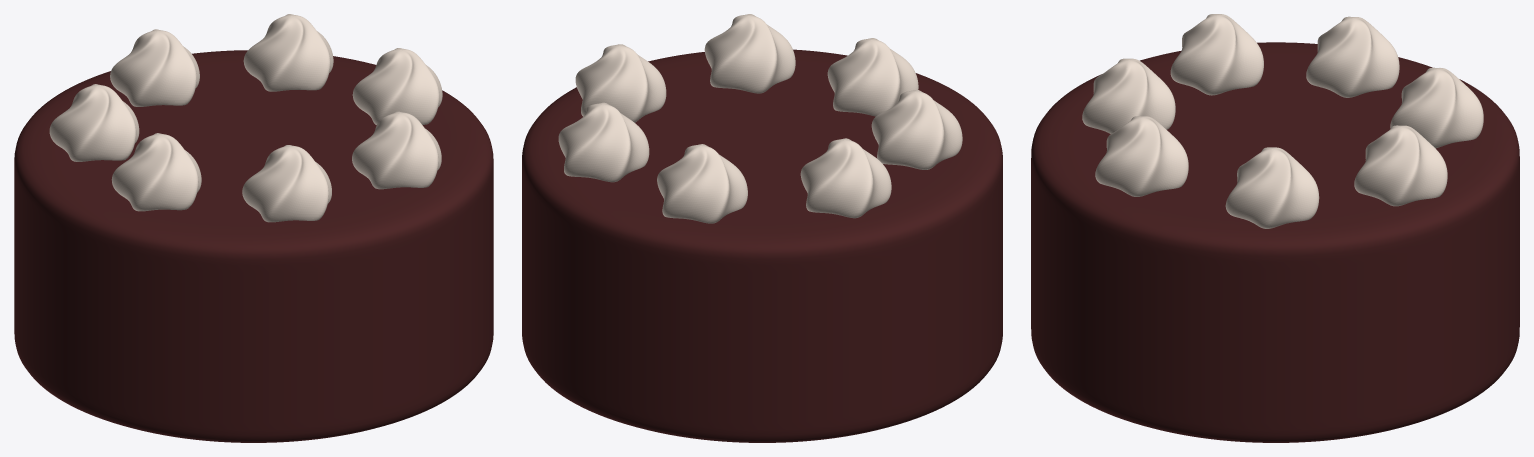
Rendered from cake (1).fbx.
3 views of the same model, side by side, from view 1: azimuth 30°, elevation 25°; view 2: azimuth 150°, elevation 25°; view 3: azimuth 270°, elevation 25° (orthographic).
Parts seen in each view (by area): view 1: cake, Star.005, Star.004, Star.003, Star.006, Star.001, Star.007, Star.002; view 2: cake, Star.005, Star.004, Star.003, Star.001, Star.006, Star.007, Star.002; view 3: cake, Star.002, Star.005, Star.001, Star.004, Star.003, Star.006, Star.007.
Part boxes in pixels (x1,y1,x2,y2): cake: (14,50,493,442); Star.005: (111,133,201,211); Star.004: (49,84,139,161); Star.003: (352,111,441,189); Star.006: (110,29,199,106); Star.001: (243,14,333,91); Star.007: (242,145,331,222); Star.002: (352,48,442,124); cake: (522,49,1002,442); Star.005: (871,90,962,169); Star.004: (800,138,891,218); Star.003: (704,14,795,93); Star.001: (558,102,649,182); Star.006: (657,144,747,223); Star.007: (827,38,918,116); Star.002: (575,44,666,122); cake: (1031,42,1519,442); Star.002: (1225,147,1319,228); Star.005: (1170,14,1263,95); Star.001: (1354,125,1447,206); Star.004: (1306,16,1399,97); Star.003: (1095,116,1188,196); Star.006: (1390,67,1483,148); Star.007: (1082,58,1175,133).
Bounding box in the file's own units: 199 × 121 × 199.
